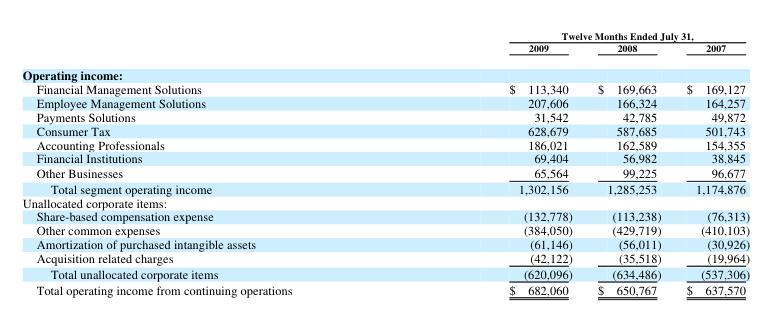table: (21, 28, 749, 297)
table column: (21, 28, 399, 297), (399, 28, 584, 297), (584, 28, 673, 297), (673, 28, 749, 297)
table column header: (21, 28, 749, 60)
table projected row header: (21, 60, 749, 81), (21, 195, 749, 208)
table row: (21, 60, 749, 81), (21, 41, 749, 60), (21, 280, 749, 297), (21, 164, 749, 180), (21, 180, 749, 195), (21, 250, 749, 265), (21, 265, 749, 280), (21, 81, 749, 95), (21, 95, 749, 109), (21, 122, 749, 136), (21, 136, 749, 150), (21, 150, 749, 164), (21, 208, 749, 222), (21, 222, 749, 236), (21, 236, 749, 250), (21, 28, 749, 41), (21, 109, 749, 122), (21, 195, 749, 208)
table spanning cell: (399, 28, 749, 41)
